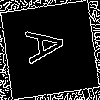A: (25, 25, 75, 66)
